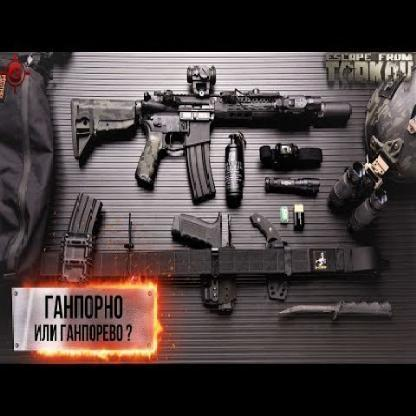Grenade: (225, 131, 246, 202)
Gun: (70, 64, 351, 201)
Knife: (248, 215, 290, 297), (278, 300, 395, 321)
Pistol: (172, 210, 235, 310)
